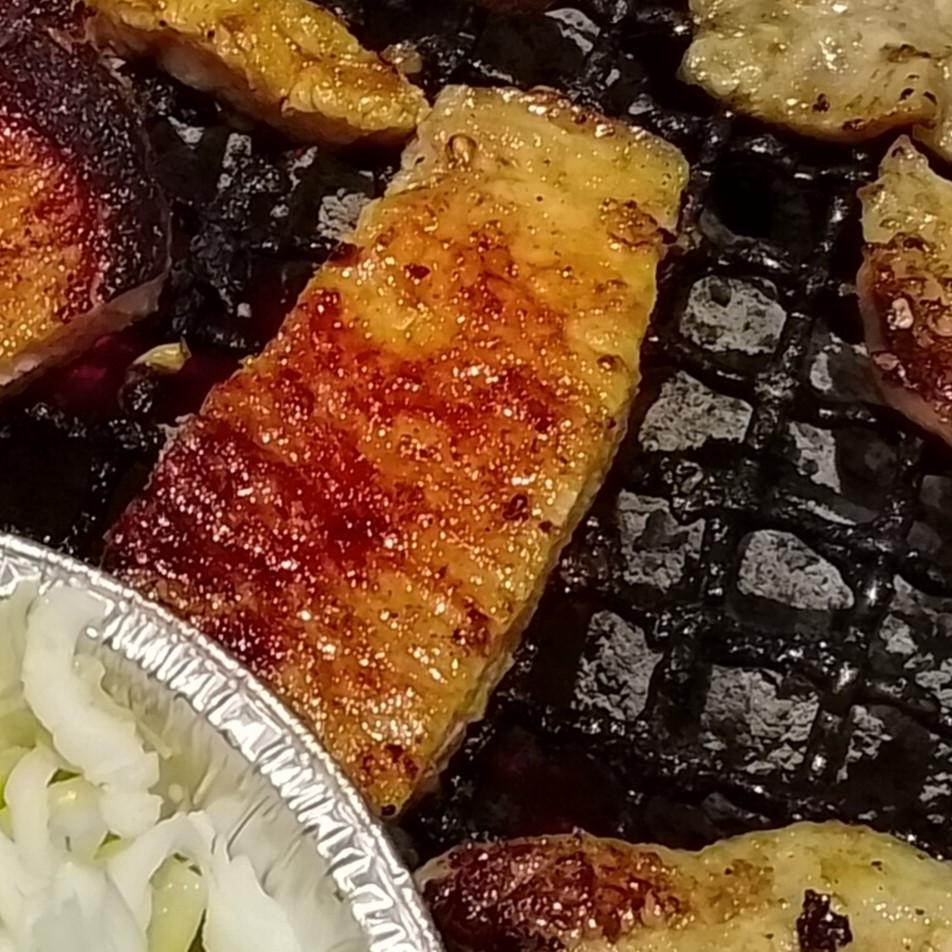Overcooked: (412, 824, 951, 951), (0, 0, 173, 374), (857, 136, 951, 449)
Well-Cooked: (64, 83, 693, 827), (77, 0, 425, 165), (680, 0, 951, 178)
